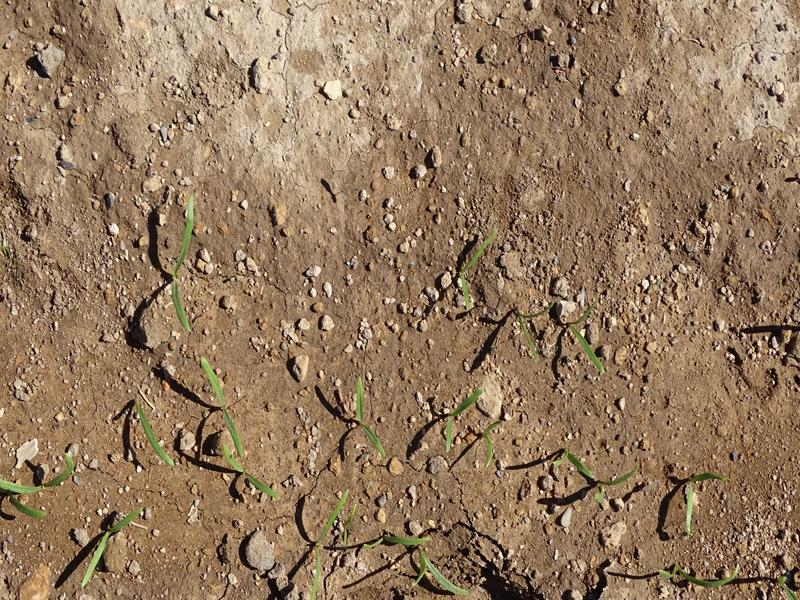Espinaca: (201, 363, 278, 496), (1, 453, 85, 519), (83, 506, 145, 584), (166, 197, 200, 332), (557, 449, 633, 508), (673, 469, 726, 540), (133, 393, 180, 468), (459, 225, 495, 314), (566, 303, 611, 374), (351, 382, 389, 455), (409, 554, 471, 596), (443, 389, 480, 449), (359, 531, 429, 553)
